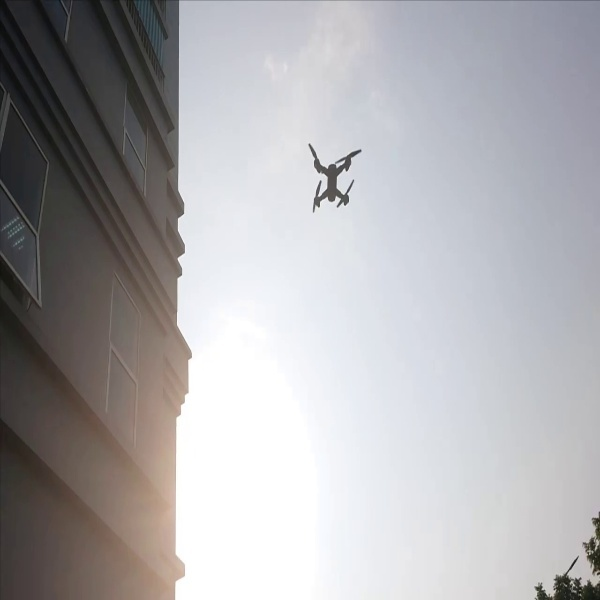drone: (292, 131, 370, 223)
